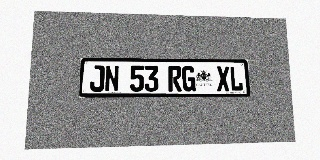3: (145, 66, 158, 92)
5: (130, 66, 144, 92)
G: (182, 66, 196, 91)
J: (89, 65, 105, 92)
L: (229, 66, 243, 91)
N: (104, 65, 119, 92)
R: (168, 66, 182, 91)
X: (216, 66, 230, 91)
